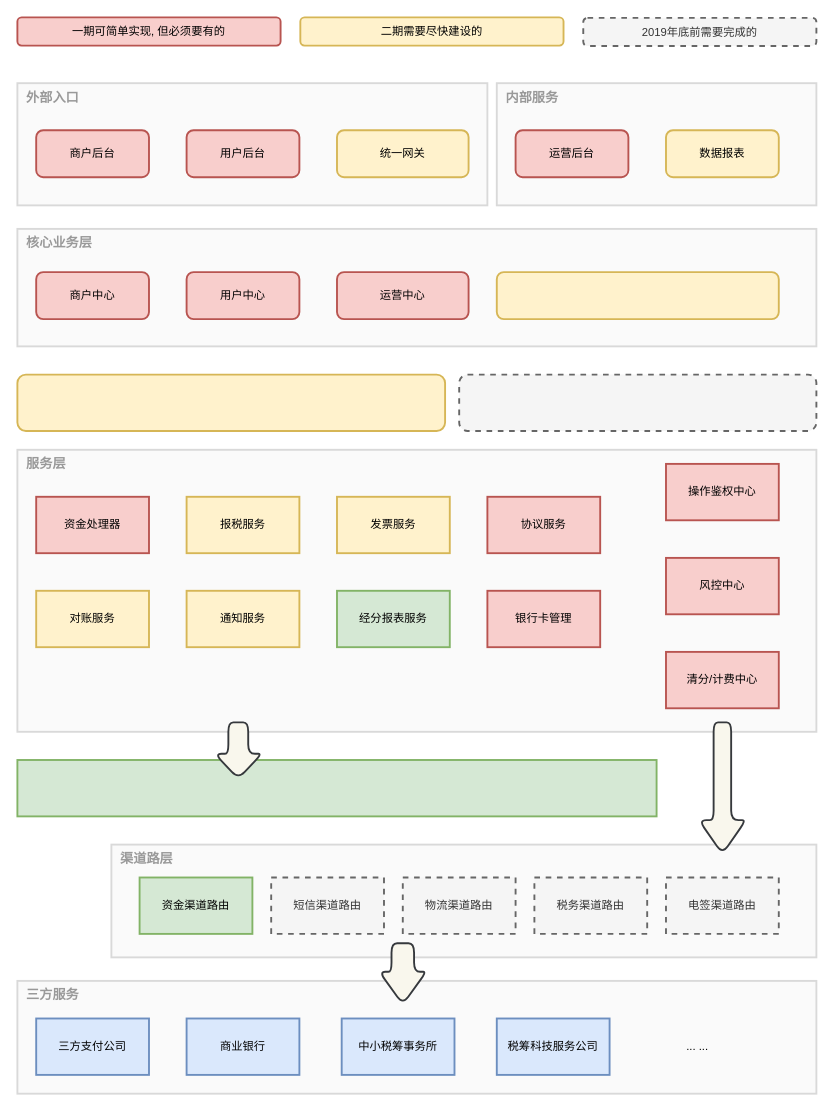
The diagram is 833 pixels wide and 1110 high, and some of its shapes have lost their labels. The shapes that lost their labels are listed below. From the top down, each one's centre as x and y in pixels, then its label:
point 637,295: 服务接口聚合
point 231,402: 标准税筹产品
point 637,402: 内部基础产品
point 336,788: 账户体系
